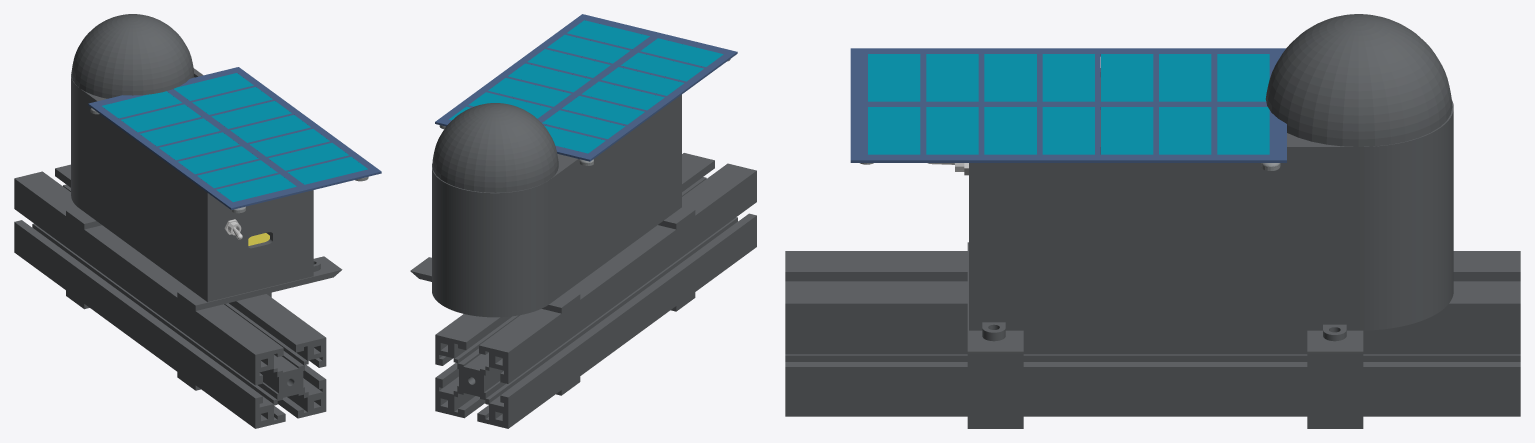
File: Final designs.glb
3 views of the same model, side by side, from view 1: azimuth 30°, elevation 25°; view 2: azimuth 150°, elevation 25°; view 3: azimuth 270°, elevation 25° (orthographic). The views are drawn at different scales.
Parts seen in each view (by area): view 1: Mesh_Mesh_head_geo.001_lambert2SG.001; view 2: Mesh_Mesh_head_geo.001_lambert2SG.001; view 3: Mesh_Mesh_head_geo.001_lambert2SG.001.
Part boxes in pixels (left/top/right/bottom): Mesh_Mesh_head_geo.001_lambert2SG.001: left=14, top=14, right=381, bottom=428; Mesh_Mesh_head_geo.001_lambert2SG.001: left=410, top=14, right=756, bottom=428; Mesh_Mesh_head_geo.001_lambert2SG.001: left=785, top=14, right=1520, bottom=428.
Bounding box in the file's own units: 85 × 141 × 236.
